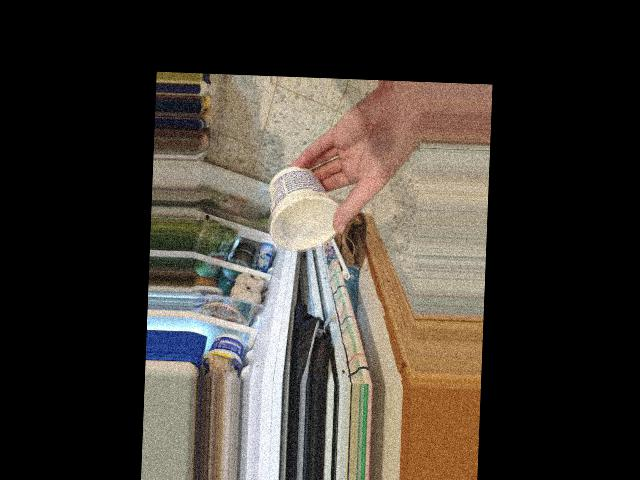cotage: (273, 164, 341, 253)
